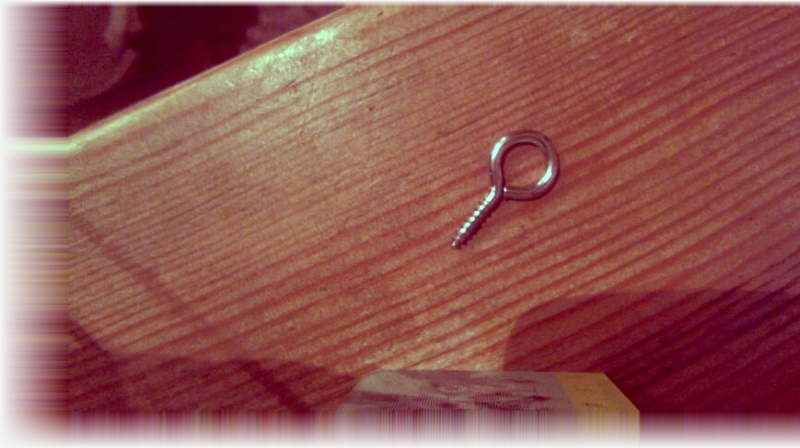O001: (449, 128, 561, 251)
